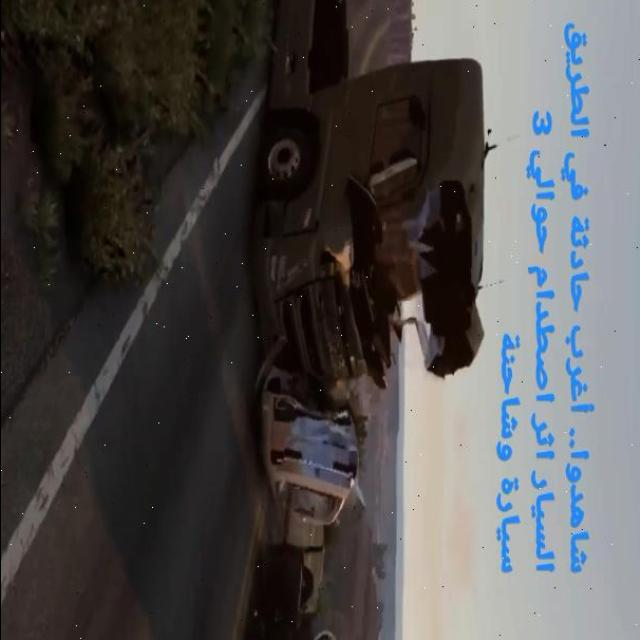accident: (248, 48, 492, 524)
